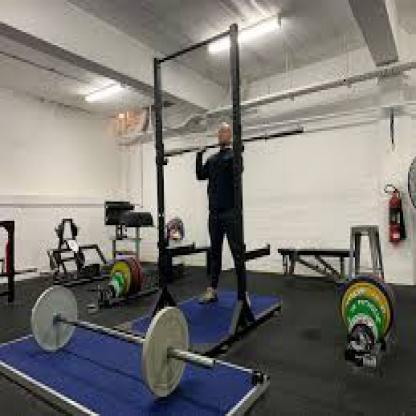barbell: (29, 283, 219, 401)
